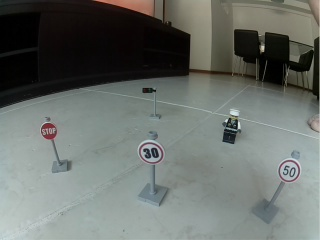Green Traffic Light: (141, 86, 162, 120)
Person: (221, 107, 242, 145)
Speed Limit 30: (138, 140, 164, 165)
Speed Limit 50: (277, 159, 301, 183)
Stop Sign: (40, 122, 58, 141)
